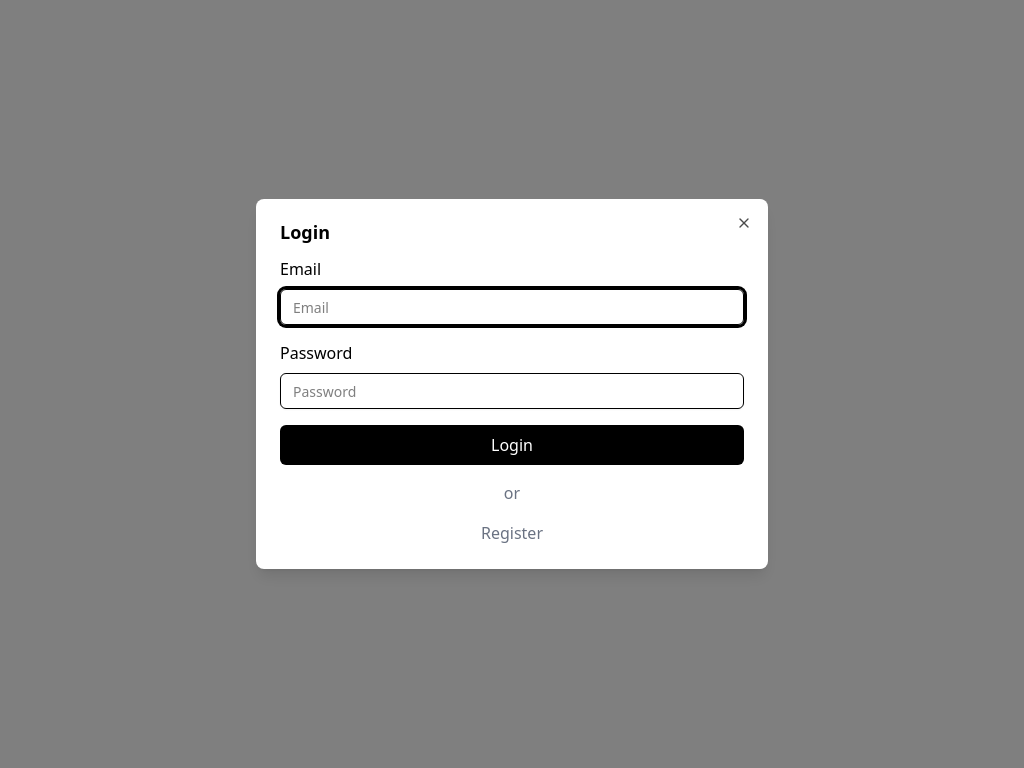
Test: AuthModal › switches back to login mode
Click the button "Register".
click(512, 533)  # box [280,521,744,545]
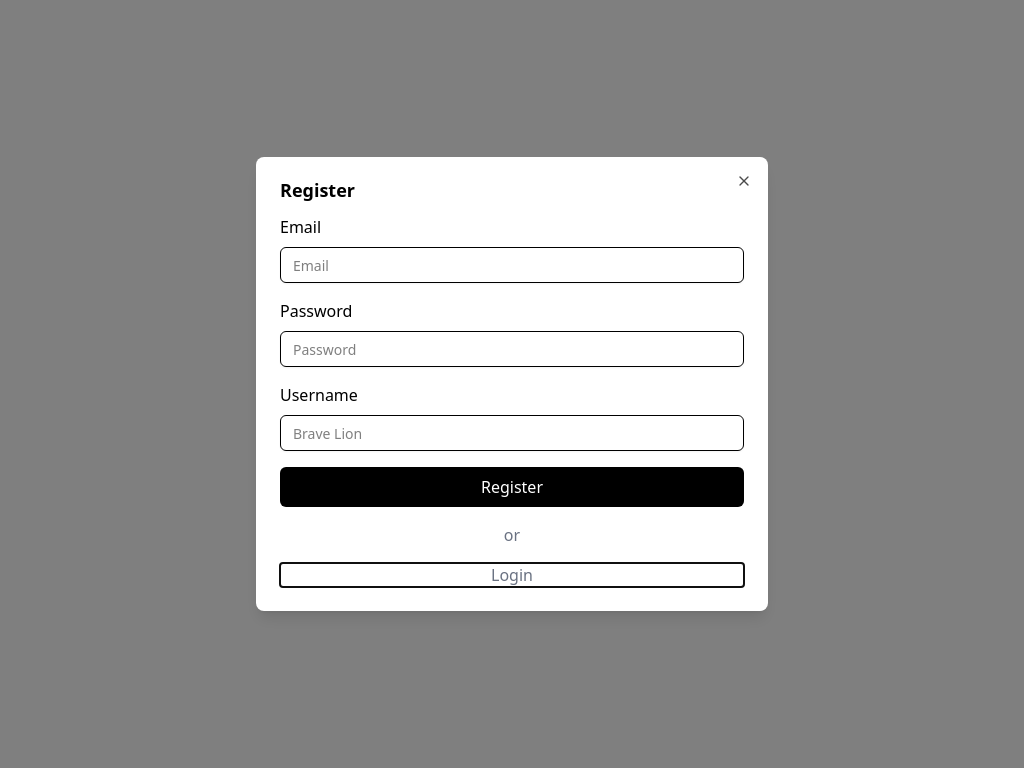
Click the button "Login".
click(512, 575)  # box [280,563,744,587]
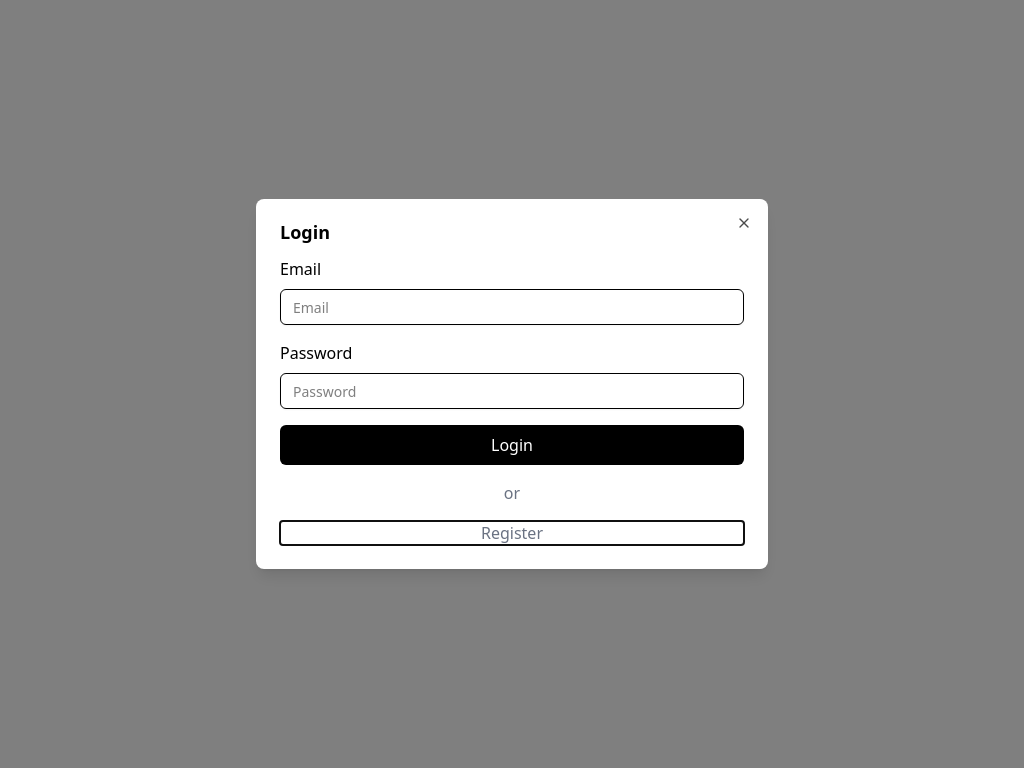
Now the button "Login" is shown, box [280,425,744,465]
Now the label labelled "Username" is gone
